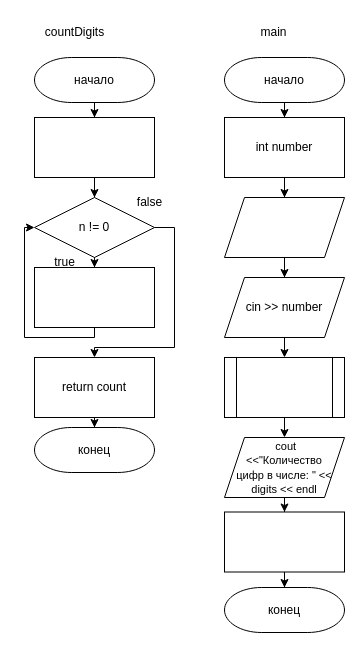
Image size: 362x650. Some labels were removed from this diagram. The centre of each missing label's shape, as x and y in pixels:
cout << "Введите число: ": point 284,227
digits = countDigits (number): point 284,387
int n; int count = 0: point 94,147
n = n / 10; count++;: point 94,297
return 0: point 284,541
